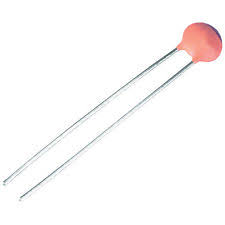ceramic capacitor: (137, 1, 225, 124)
